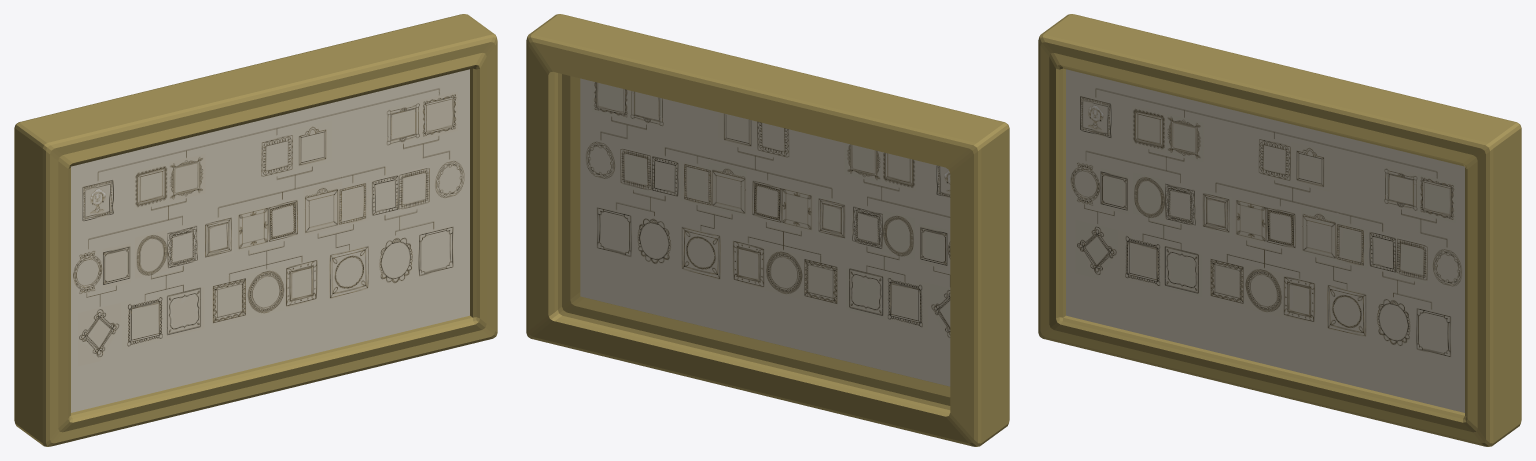
File: Arbol_Cuadro.fbx
3 renders of one model, left to right at view 1: azimuth 30°, elevation 25°; view 2: azimuth 150°, elevation 25°; view 3: azimuth 330°, elevation 25°, orthographic.
Parts seen in each view (by area): view 1: Arbol_cuadro; view 2: Arbol_cuadro; view 3: Arbol_cuadro.
Part boxes in pixels (box(x1,y1,x2,y2)): Arbol_cuadro: box(14, 14, 497, 446); Arbol_cuadro: box(526, 14, 1009, 446); Arbol_cuadro: box(1038, 14, 1521, 446).
Bounding box in the file's own units: 330 × 211 × 46.57.
2 materials, 1 textured.
